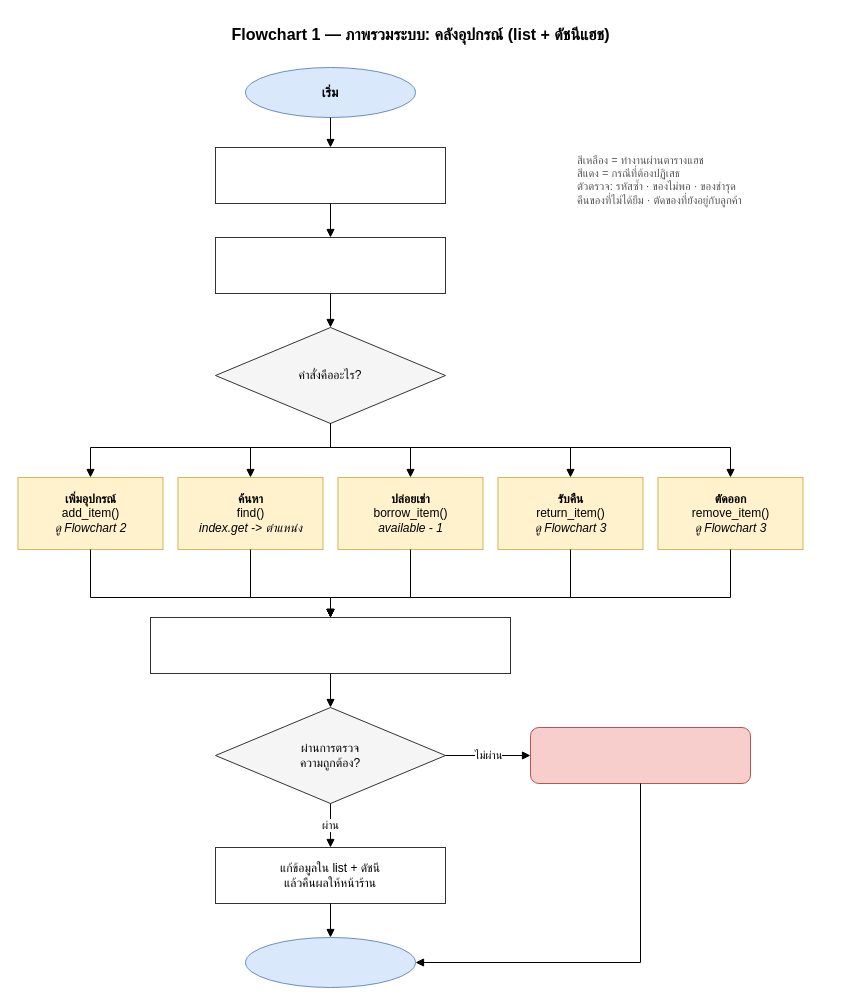
Some shapes in this 842 by 1005 pixel diagram are drawn without their labels. Here are the shapes that lost their labels. From the top down, the box of each, then its label:
(214, 146, 446, 204): สร้างคลัง: items = [ ] (list) index = HashTable() (ดัชนี)
(214, 236, 446, 294): รับคำสั่งจากหน้าร้าน พร้อมรหัสอุปกรณ์ (code)
(150, 616, 510, 674): ทุกคำสั่งหาตำแหน่งจากดัชนีแฮชก่อน O(1) เฉลี่ย ไม่ต้องไล่ list ทีละตัว
(530, 726, 750, 784): ปฏิเสธพร้อมเหตุผล (InventoryError) ไม่แตะข้อมูล
(244, 936, 416, 988): จบ
